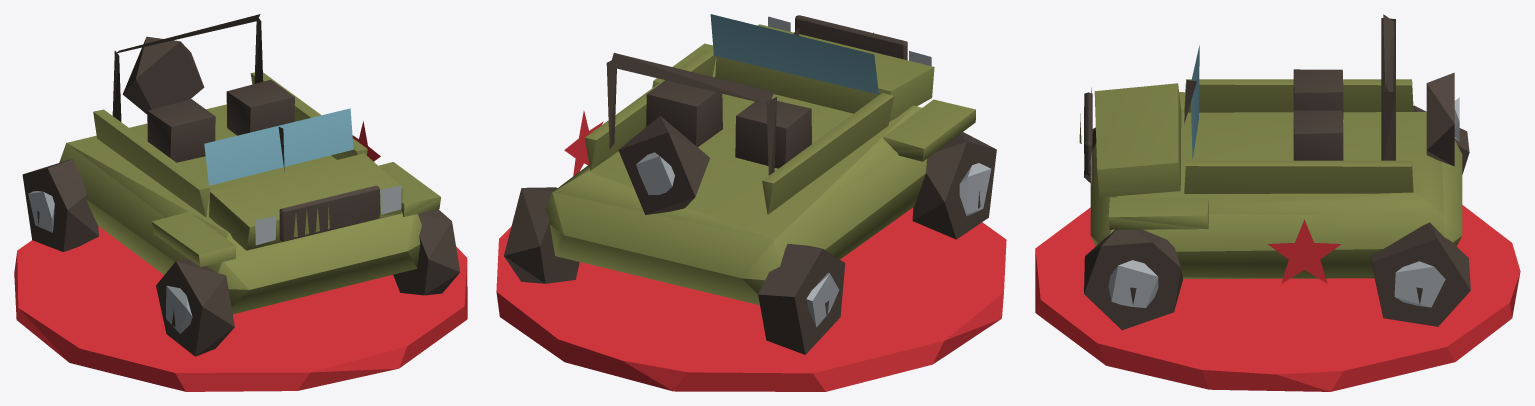
The model's file is soviet_union_militia_lod1.glb.
3 views of the same model, side by side, from view 1: azimuth 30°, elevation 25°; view 2: azimuth 150°, elevation 25°; view 3: azimuth 270°, elevation 25° (orthographic). The views are drawn at different scales.
Visible parts, largest first — view 1: body_hull, base_pedestal; view 2: body_hull, base_pedestal; view 3: body_hull, base_pedestal.
Boxes of the visible parts, x1,y1,x2,y2 form: body_hull: (22,14,459,356); base_pedestal: (14,226,467,391); body_hull: (504,14,996,354); base_pedestal: (496,207,1006,391); body_hull: (1079,14,1470,330); base_pedestal: (1035,205,1520,391).
Bounding box in the file's own units: 0.7751 × 0.4244 × 0.7751.
